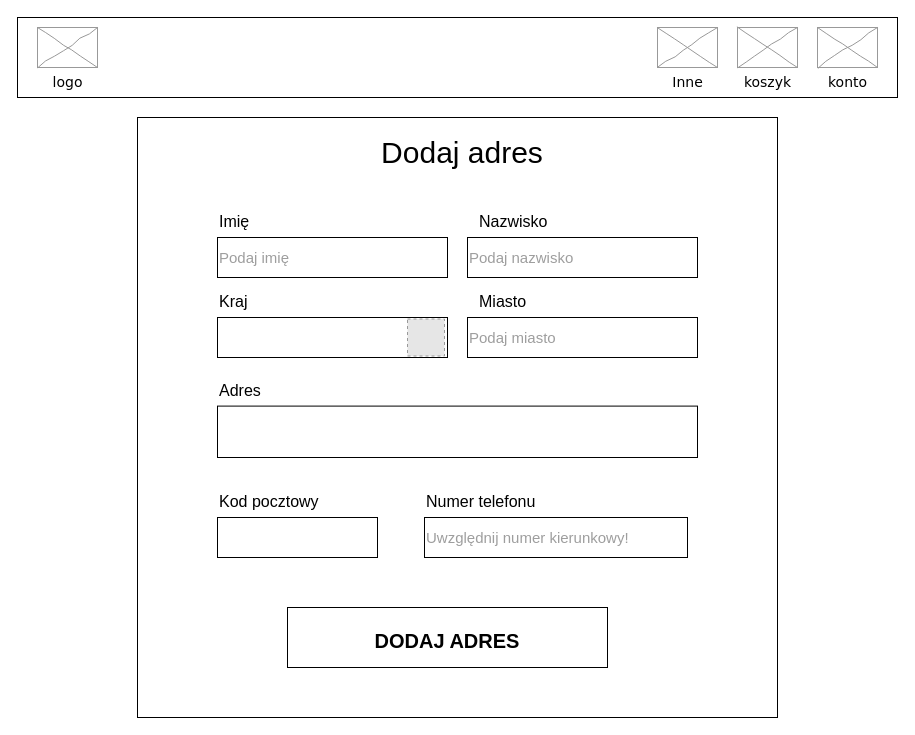
This 915x735 diagram has some shape labels left out. Grey dashed boxes stand in for pictures. Each missing label, with the box of its shape:
Podaj kod pocztowy: (216, 516, 378, 558)
Podaj pełny adres: (216, 405, 698, 458)
Wybierz kraj: (216, 316, 448, 358)
